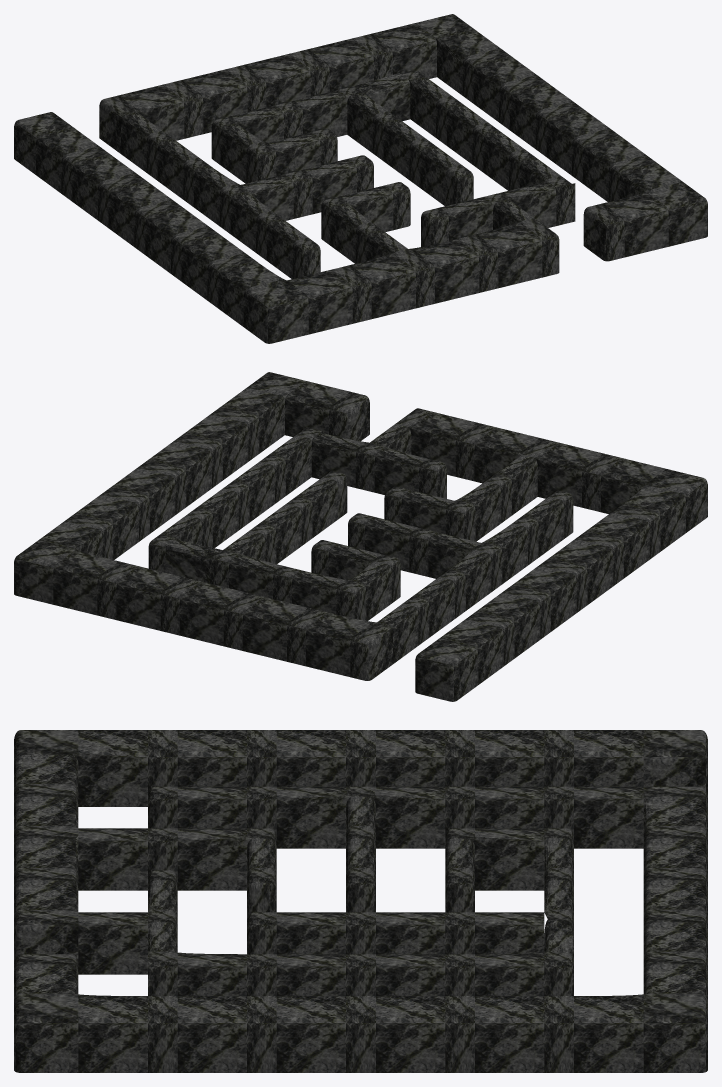
The model's file is parede.obj.
3 renders of one model, top to bottom at view 1: azimuth 30°, elevation 25°; view 2: azimuth 150°, elevation 25°; view 3: azimuth 270°, elevation 25°, orthographic. The views are drawn at different scales.
Visible parts, largest first — view 1: Plane.005_Plane.006, Plane.001_Plane.002, Plane.002_Plane.003, Plane.006_Plane.007, Plane.003_Plane.004, Plane.017_Plane.019, Plane.013_Plane.014, Plane.014_Plane.015, Plane.004_Plane.005, Plane.007_Plane.008, Plane.009_Plane.010, Plane.011_Plane.012 (+4 smaller); view 2: Plane.005_Plane.006, Plane.002_Plane.003, Plane.001_Plane.002, Plane.006_Plane.007, Plane.003_Plane.004, Plane.017_Plane.019, Plane.014_Plane.015, Plane.009_Plane.010, Plane.013_Plane.014, Plane.004_Plane.005, Plane.011_Plane.012, Plane.007_Plane.008 (+4 smaller); view 3: Plane.001_Plane.002, Plane.005_Plane.006, Plane.003_Plane.004, Plane.017_Plane.019, Plane.002_Plane.003, Plane.006_Plane.007, Plane.013_Plane.014, Plane.011_Plane.012, Plane.015_Plane.016, Plane.010_Plane.011, Plane.014_Plane.015, Plane.004_Plane.005 (+4 smaller).
Boxes of the visible parts, x1,y1,x2,y2 form: Plane.005_Plane.006: (14, 112, 308, 343); Plane.001_Plane.002: (416, 14, 707, 246); Plane.002_Plane.003: (99, 23, 436, 153); Plane.006_Plane.007: (287, 218, 559, 334); Plane.003_Plane.004: (121, 112, 320, 278); Plane.017_Plane.019: (402, 71, 575, 225); Plane.013_Plane.014: (347, 92, 473, 206); Plane.014_Plane.015: (211, 73, 410, 164); Plane.004_Plane.005: (241, 155, 373, 220); Plane.007_Plane.008: (583, 192, 668, 261); Plane.009_Plane.010: (421, 181, 556, 246); Plane.011_Plane.012: (321, 196, 407, 263); Plane.005_Plane.006: (415, 469, 707, 701); Plane.002_Plane.003: (53, 550, 392, 680); Plane.001_Plane.002: (14, 372, 305, 604); Plane.006_Plane.007: (395, 408, 665, 513); Plane.003_Plane.004: (377, 490, 573, 663); Plane.017_Plane.019: (148, 426, 322, 572); Plane.014_Plane.015: (165, 539, 366, 620); Plane.009_Plane.010: (311, 432, 446, 498); Plane.013_Plane.014: (223, 471, 347, 564); Plane.004_Plane.005: (348, 513, 480, 578); Plane.011_Plane.012: (445, 455, 537, 541); Plane.007_Plane.008: (285, 381, 369, 441); Plane.001_Plane.002: (14, 993, 707, 1072); Plane.005_Plane.006: (14, 730, 707, 806); Plane.003_Plane.004: (148, 786, 643, 848); Plane.017_Plane.019: (148, 951, 573, 995); Plane.002_Plane.003: (643, 786, 707, 1001); Plane.006_Plane.007: (14, 754, 78, 962); Plane.013_Plane.014: (247, 912, 544, 954); Plane.011_Plane.012: (78, 828, 276, 890); Plane.015_Plane.016: (445, 828, 544, 890); Plane.010_Plane.011: (78, 912, 147, 974); Plane.014_Plane.015: (544, 828, 573, 951); Plane.004_Plane.005: (346, 796, 375, 912).
Bounding box in the file's own units: 43.71 × 3.63 × 43.71.
3 materials, 3 textured.
